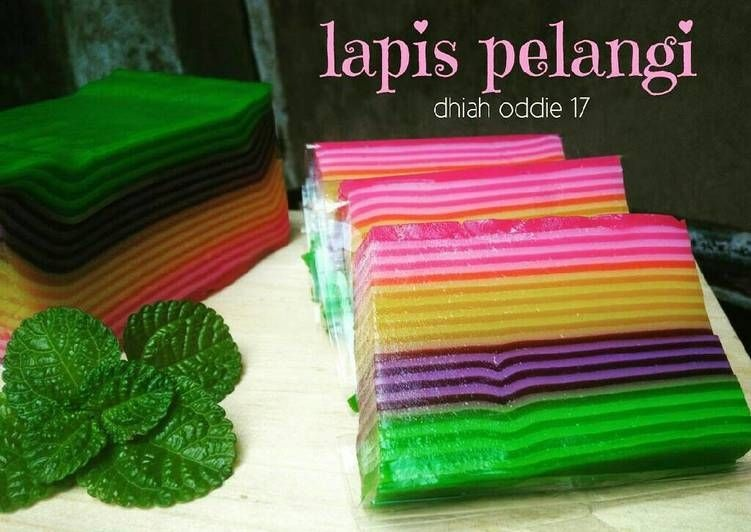kue_lapis_pelangi: (351, 213, 750, 512)
